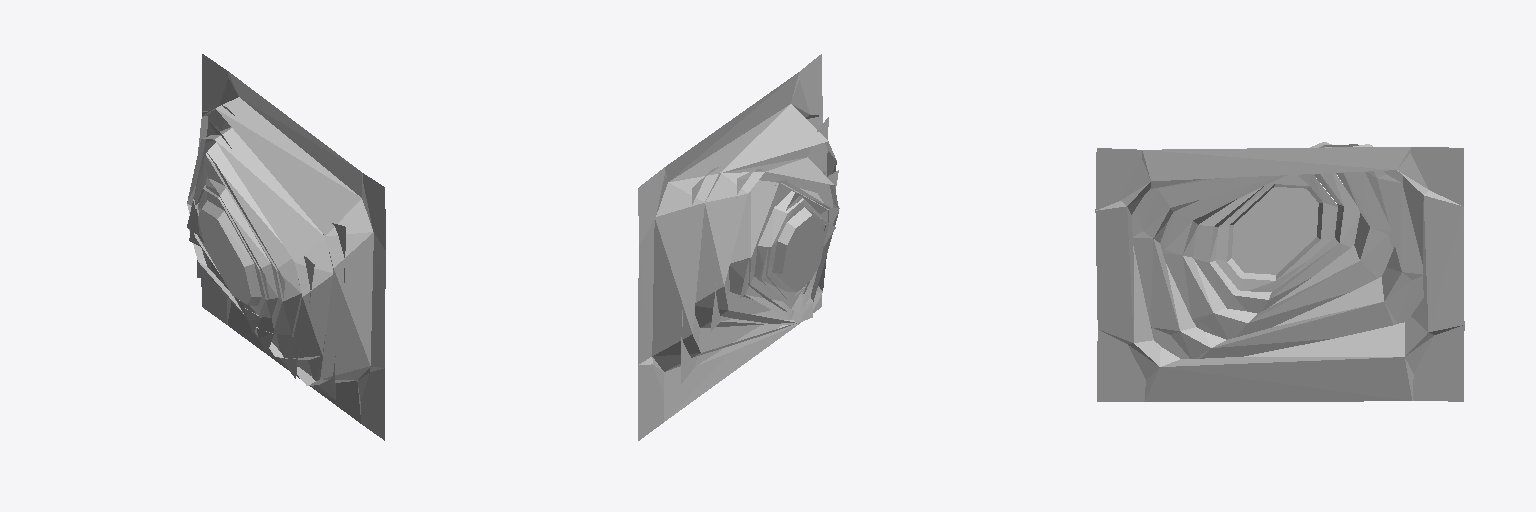
The model's file is level.obj.
3 renders of one model, left to right at view 1: azimuth 30°, elevation 25°; view 2: azimuth 150°, elevation 25°; view 3: azimuth 270°, elevation 25°, orthographic.
Parts seen in each view (by area): view 1: level; view 2: level; view 3: level.
Boxes of the visible parts, box(x1,y1,x2,y2) form: level: box(187, 54, 385, 440); level: box(638, 54, 839, 440); level: box(1095, 142, 1464, 401).
Bounding box in the file's own units: 816 × 2398 × 3139.